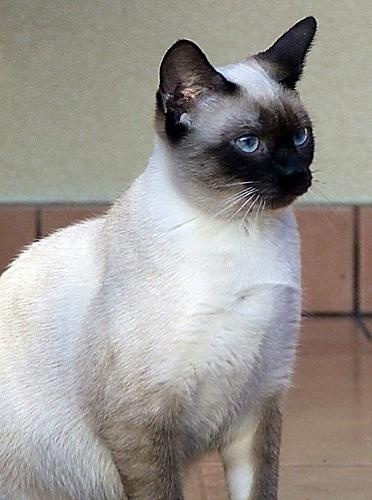cat: (1, 14, 324, 500)
